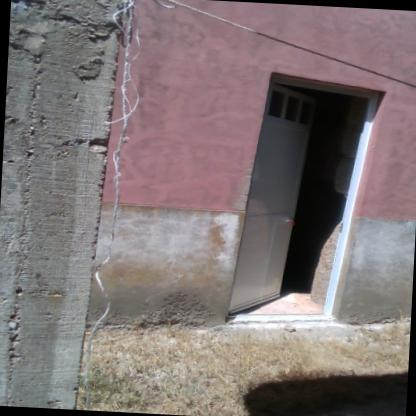semi: (248, 67, 399, 340)
